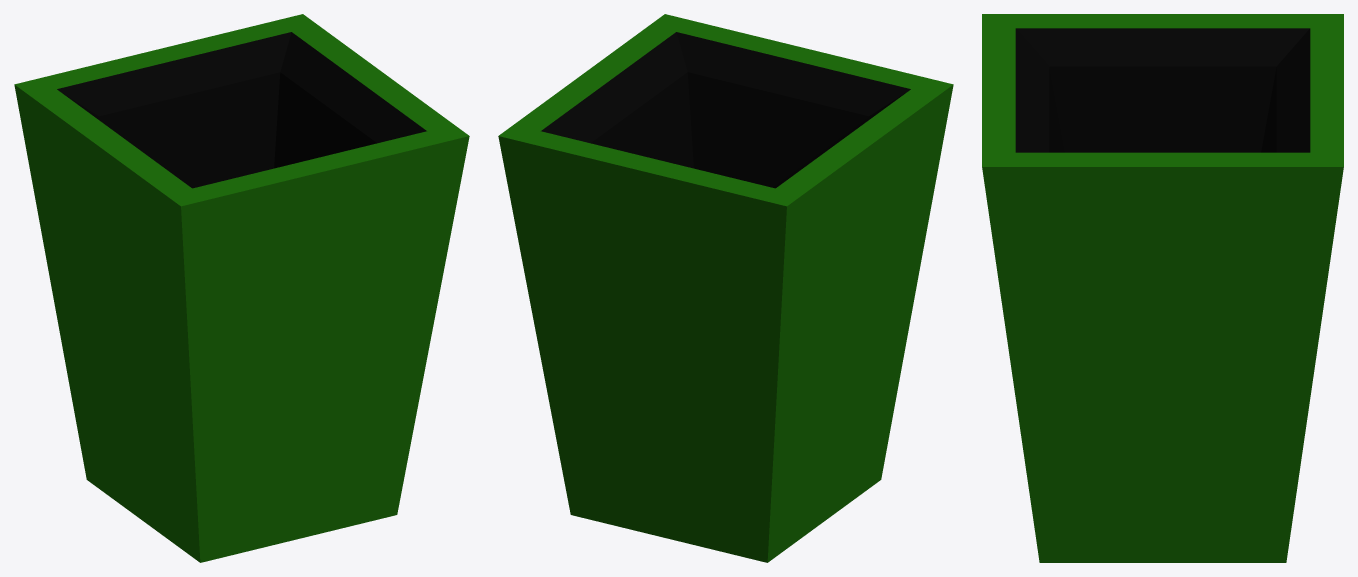
File: Lixeira.fbx
The picture shows the model from 3 angles, left to right: view 1: azimuth 30°, elevation 25°; view 2: azimuth 150°, elevation 25°; view 3: azimuth 270°, elevation 25°; orthographic projection. The views are drawn at different scales.
Visible parts, largest first — view 1: Cube; view 2: Cube; view 3: Cube.
Part boxes in pixels (x1=…): Cube: x1=14, y1=14, x2=469, y2=562; Cube: x1=498, y1=14, x2=953, y2=562; Cube: x1=982, y1=14, x2=1343, y2=562.
Size of the model in its own units: 142 by 182 by 142.
